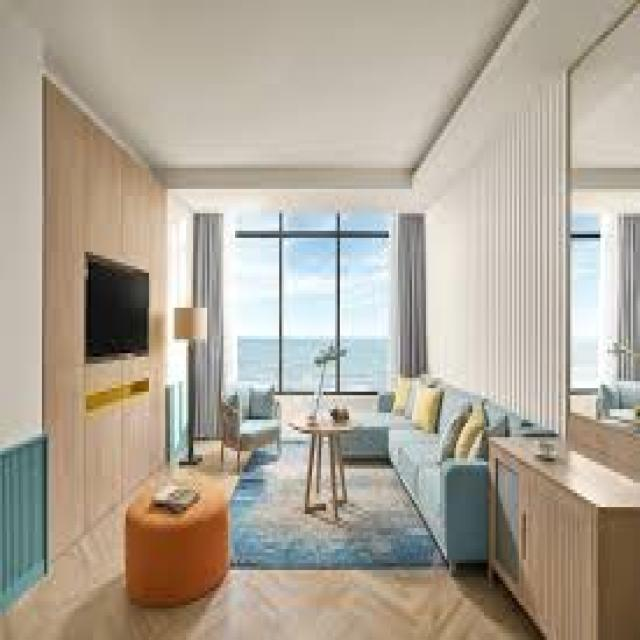Chair: (215, 378, 285, 469)
Sofa: (368, 372, 542, 578)
Table: (290, 412, 362, 526)
tv: (82, 251, 153, 360)
window: (177, 209, 424, 369)
